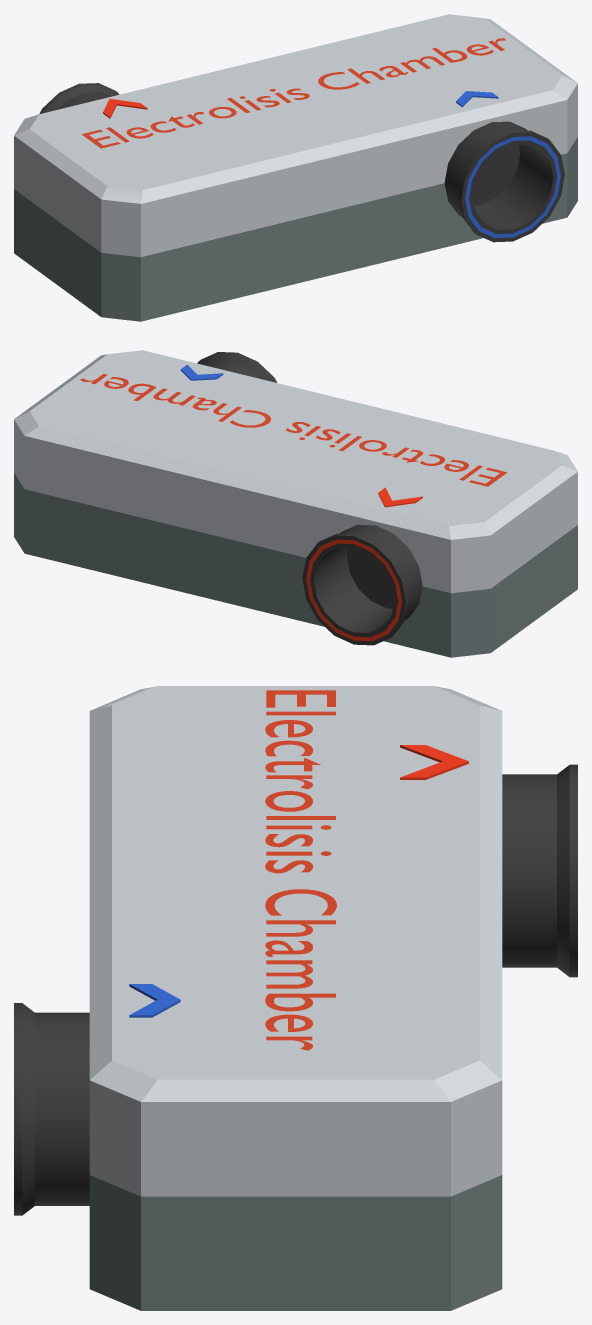
The model's file is ElectrolisisChamber.fbx.
3 views of the same model, one above another, from view 1: azimuth 30°, elevation 25°; view 2: azimuth 150°, elevation 25°; view 3: azimuth 270°, elevation 25° (orthographic). The views are drawn at different scales.
Visible parts, largest first — view 1: Electrolisis Chamber; view 2: Electrolisis Chamber; view 3: Electrolisis Chamber.
Boxes of the visible parts, <box> form: Electrolisis Chamber: <box>14,14,577,321</box>; Electrolisis Chamber: <box>14,350,577,657</box>; Electrolisis Chamber: <box>14,686,577,1310</box>.
Size of the model in its own units: 173 by 46.59 by 100.
